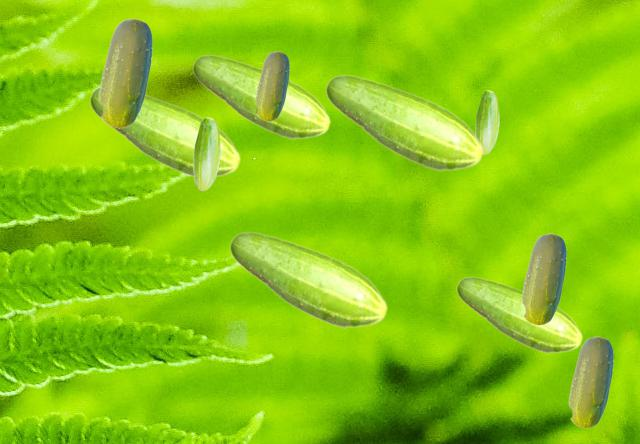cucumber: (229, 231, 387, 328), (325, 74, 483, 171), (89, 87, 240, 178), (192, 54, 330, 139), (456, 276, 582, 353), (98, 18, 151, 127), (521, 233, 565, 324), (568, 336, 612, 427), (255, 51, 288, 120), (193, 117, 219, 190), (475, 90, 498, 154)
